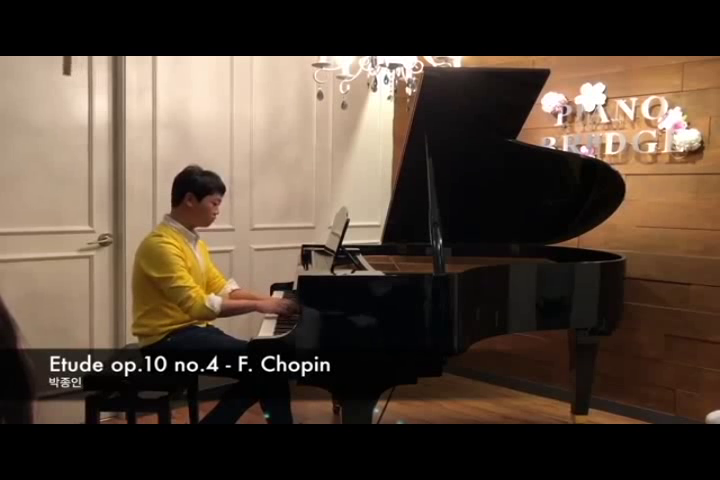keyboard: (255, 284, 305, 344)
